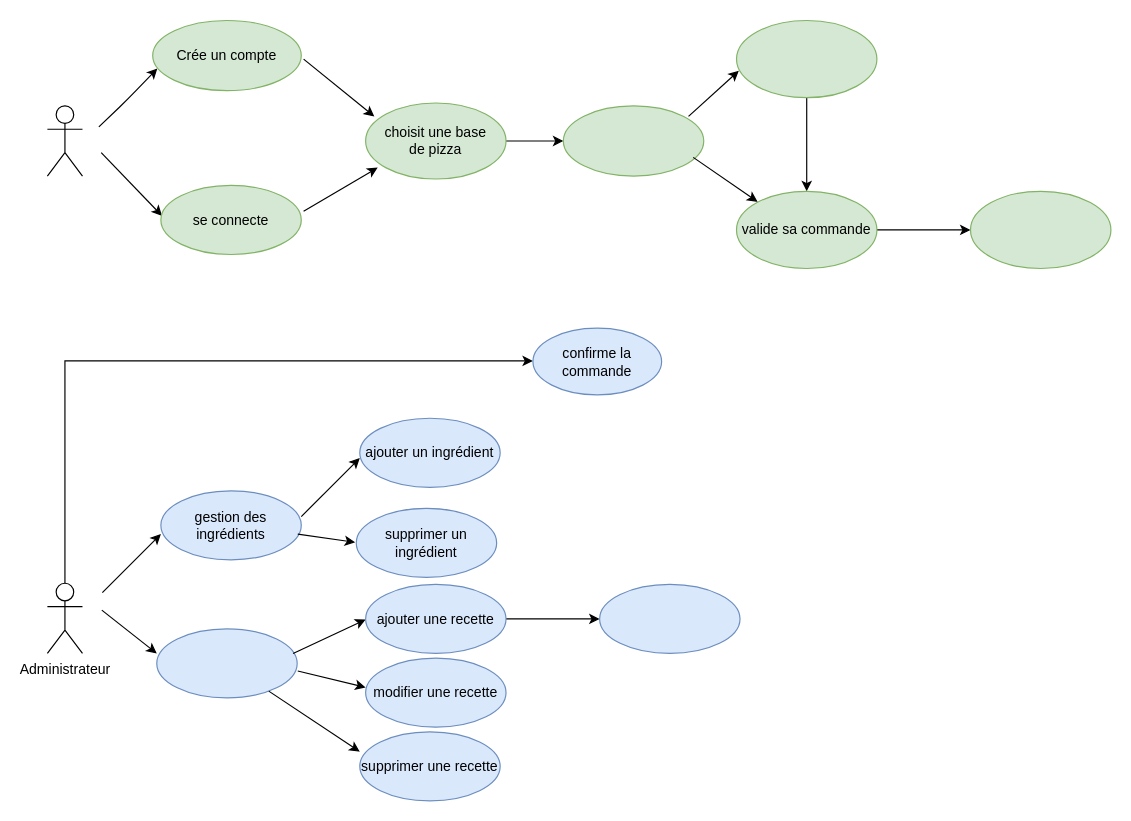
This 1131x821 diagram has some shape labels left out. Here are the shapes that lost their labels. From the top down, the centre of each, then its label:
At [806,58]: "choisit boisson et/ou dessert".
At [64,140]: "Utilisateur".
At [633,140]: "choisit sa pizza".
At [1040,229]: "reçoit sms de confirmation".
At [669,618]: "ajouter une photo".
At [226,663]: "gestion des recettes".
